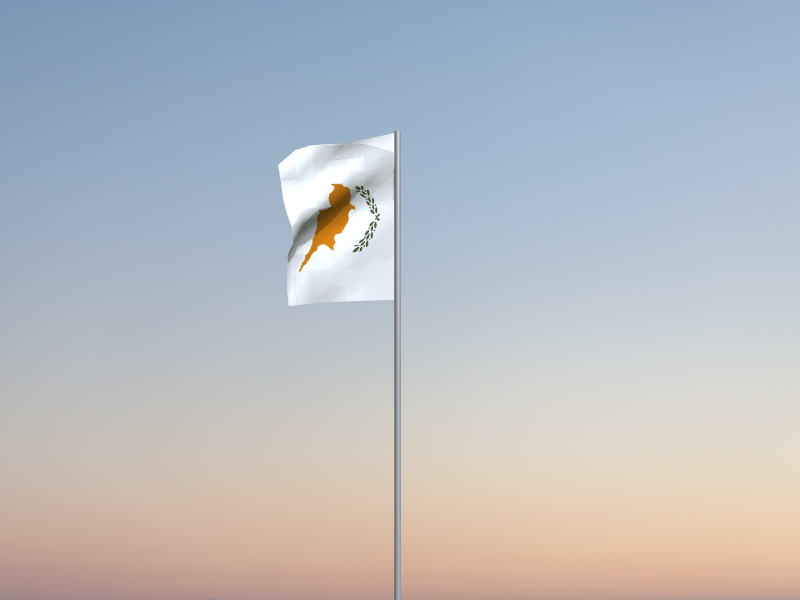cy: (278, 133, 395, 308)
